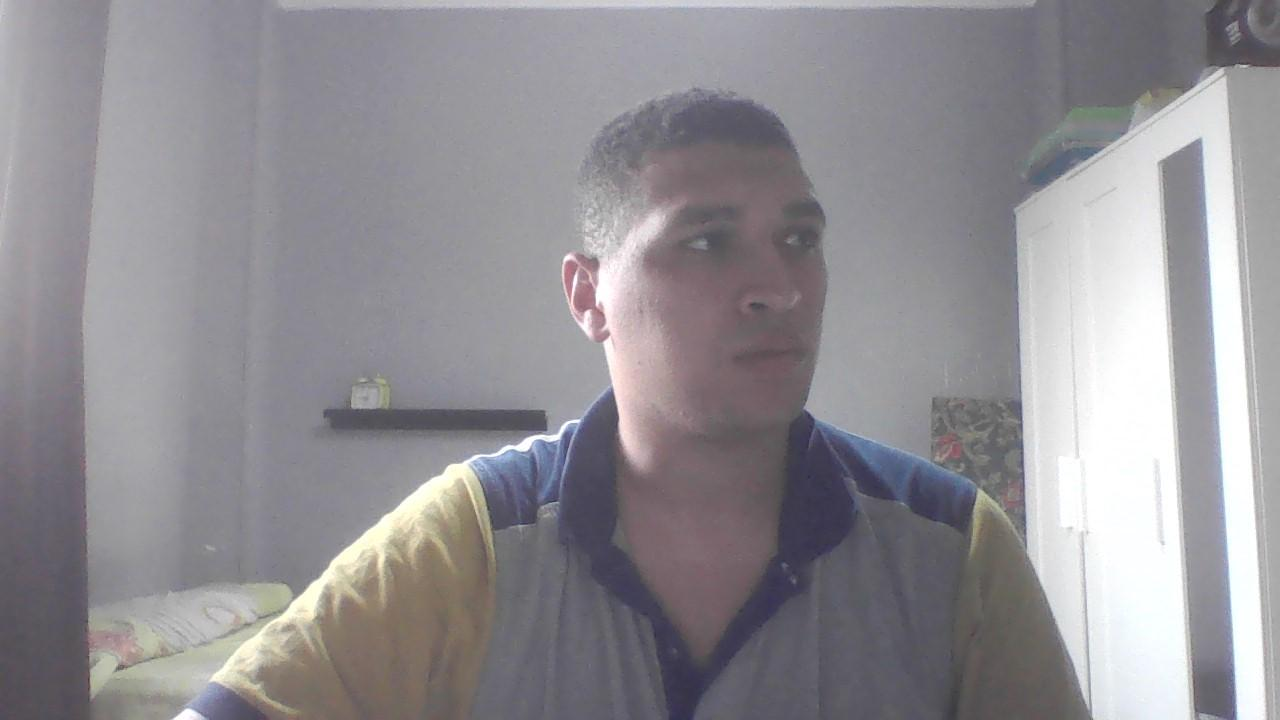without_mask: (607, 114, 841, 474)
